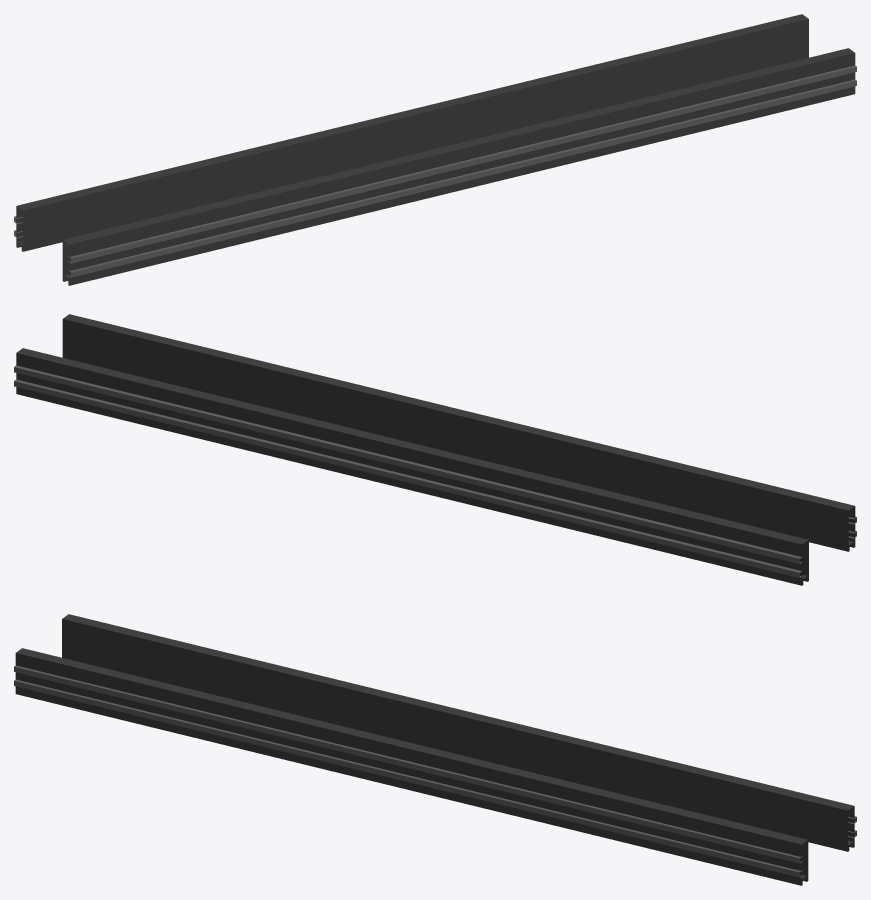
Rendered from factory_server_slider.FBX.
3 renders of one model, top to bottom at view 1: azimuth 30°, elevation 25°; view 2: azimuth 150°, elevation 25°; view 3: azimuth 330°, elevation 25°, orthographic.
Parts seen in each view (by area): view 1: factory_server_slider; view 2: factory_server_slider; view 3: factory_server_slider.
Boxes of the visible parts, x1,y1,x2,y2 form: factory_server_slider: [14, 14, 856, 285]; factory_server_slider: [14, 314, 856, 585]; factory_server_slider: [14, 614, 856, 885].
Size of the model in its own units: 1250 by 62.67 by 157.
